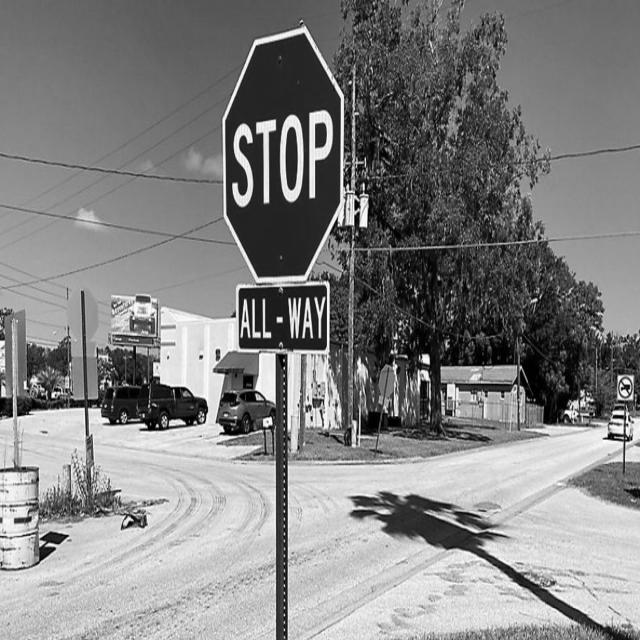Stop-sign: (212, 6, 352, 305)
